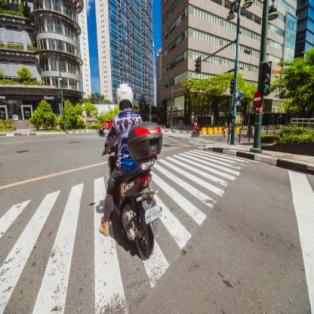Motocicleta: (97, 117, 163, 259)
